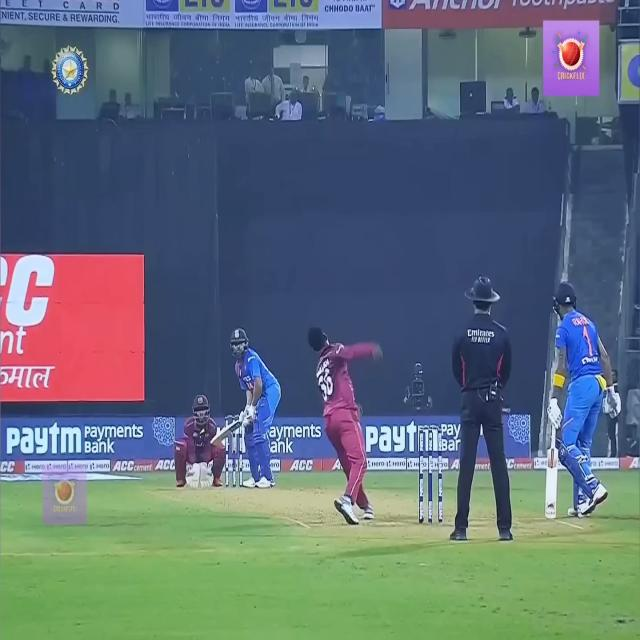fully_visible: (3, 419, 87, 462)
partially_visible: (365, 418, 439, 463)
